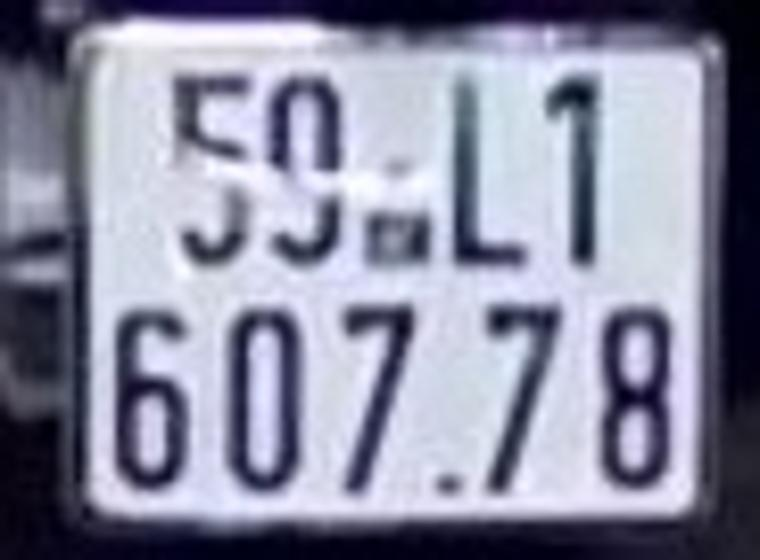.: (428, 460, 470, 500)
0: (258, 62, 350, 271), (212, 304, 310, 500)
1: (542, 59, 613, 273)
5: (166, 66, 256, 269)
6: (104, 307, 201, 500)
7: (330, 298, 416, 502), (480, 289, 561, 501)
8: (593, 290, 683, 496)
L: (448, 59, 540, 281)
